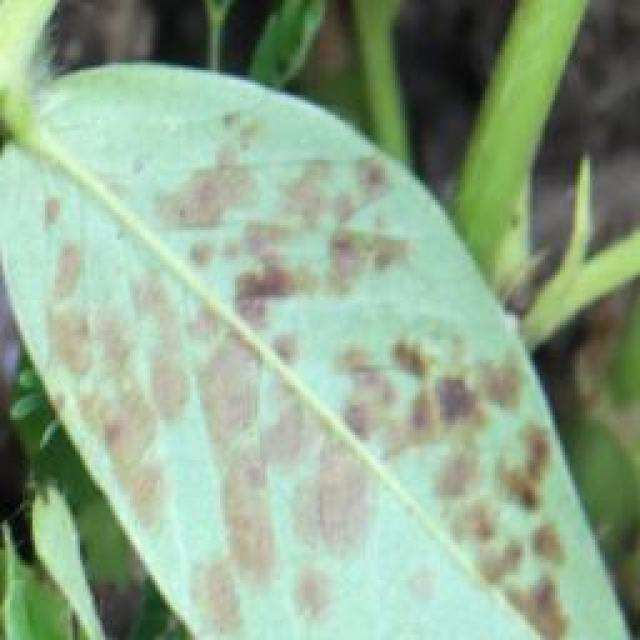Whitefly: (11, 80, 619, 640)
